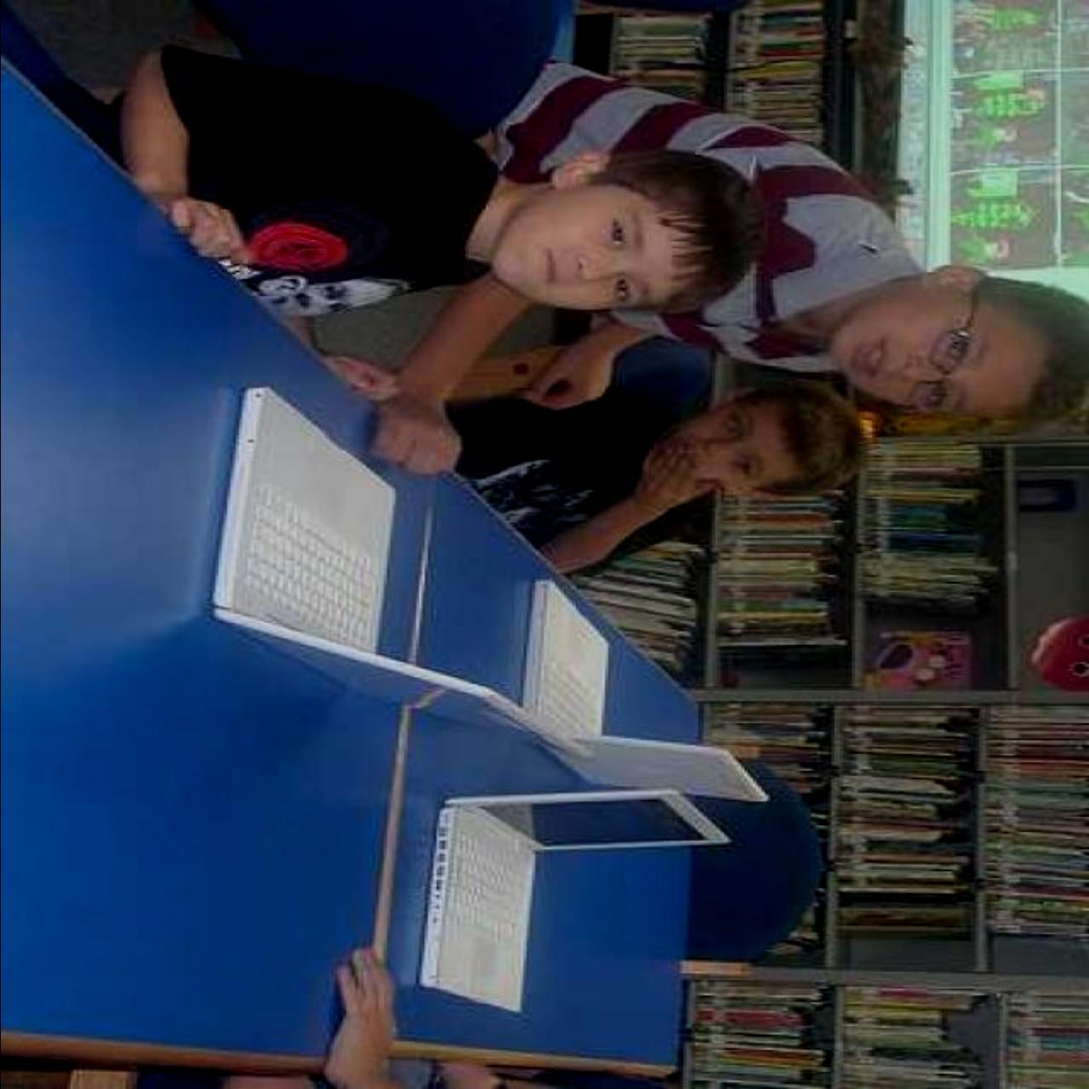laptop: (211, 390, 558, 713), (399, 776, 738, 1075), (513, 579, 753, 792)
